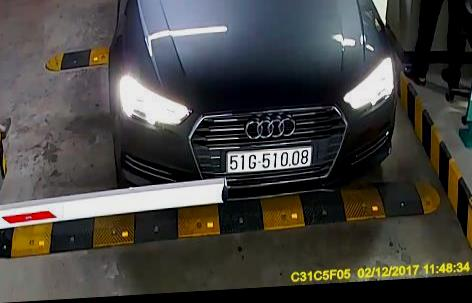License_Plate: (223, 144, 315, 174)
